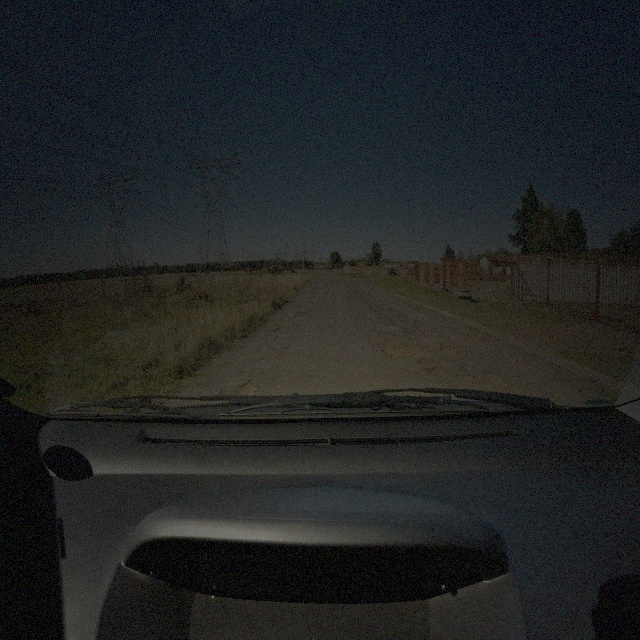pothole: (378, 337, 432, 358), (484, 368, 509, 389), (238, 379, 258, 399), (437, 345, 465, 359), (520, 358, 538, 374), (427, 366, 448, 377), (456, 371, 477, 382), (417, 357, 439, 367), (476, 381, 494, 391), (469, 335, 483, 343)
